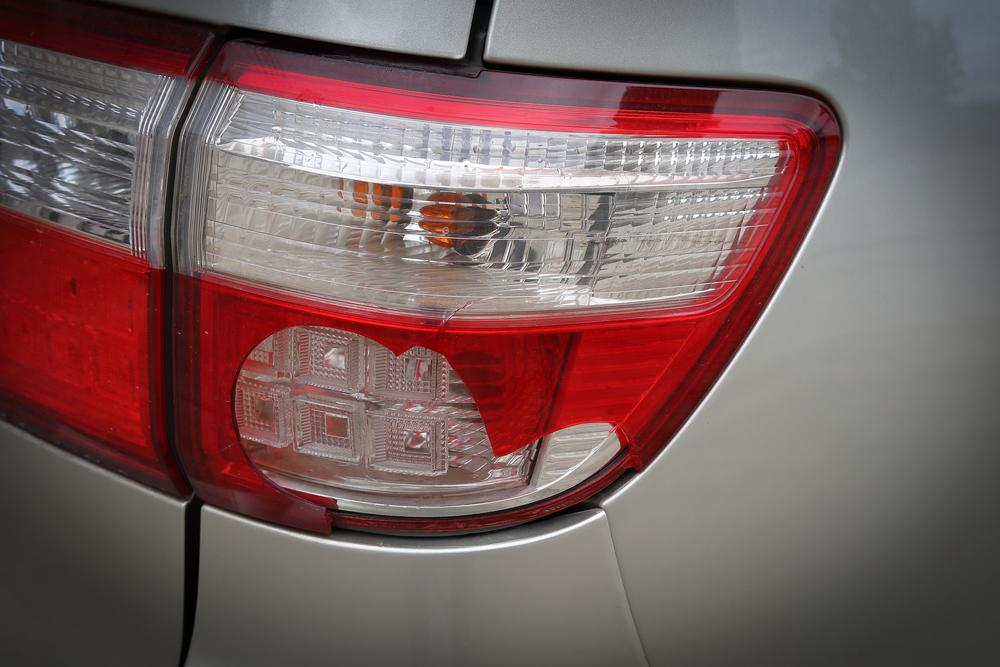lamp broken: (163, 37, 844, 542)
